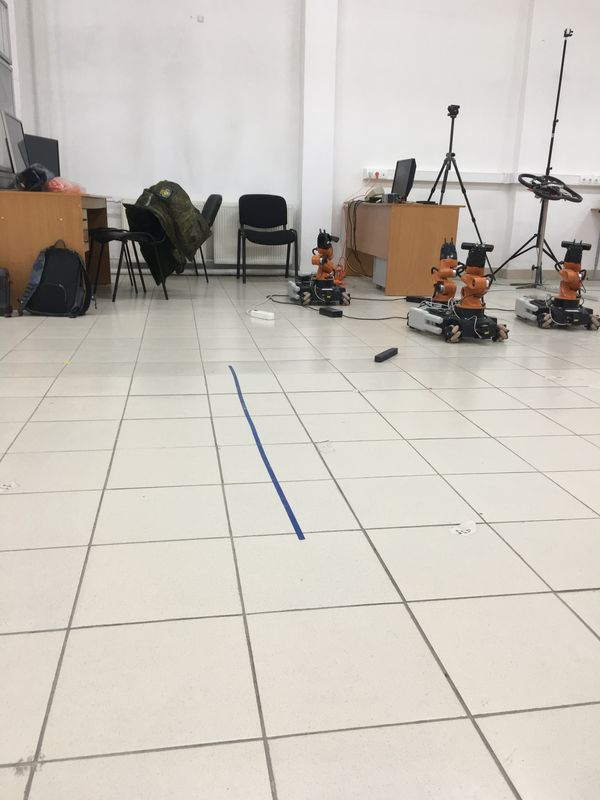socket: (246, 305, 281, 327)
